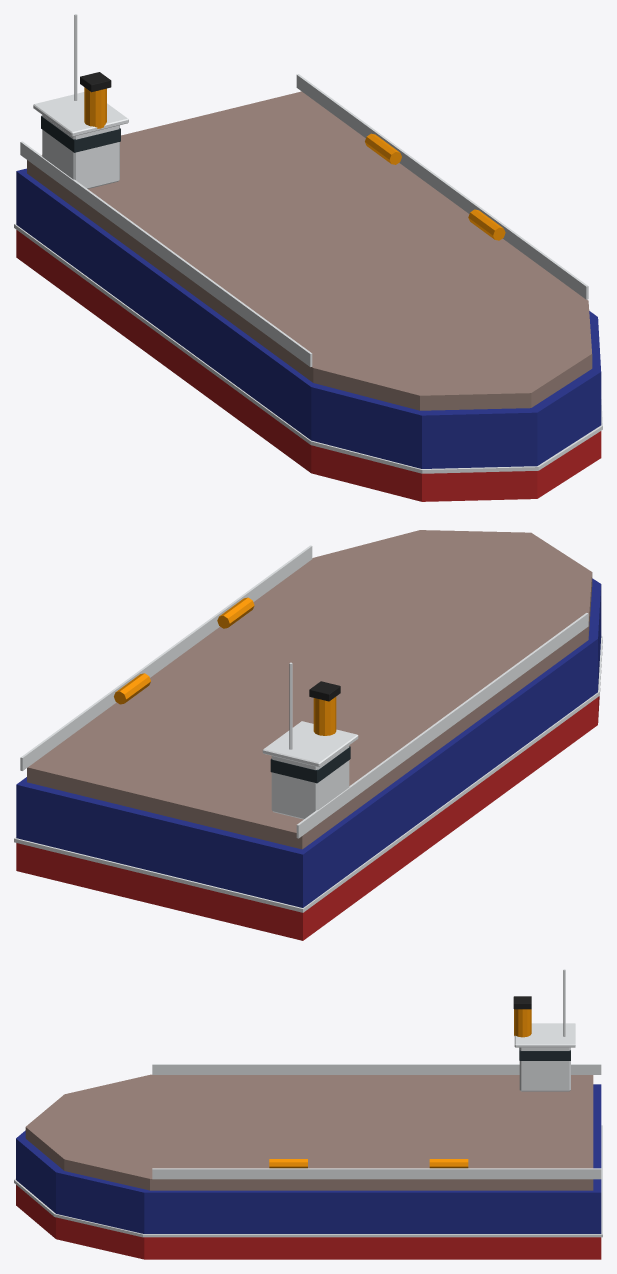
Rendered from ship.glb.
3 views of the same model, one above another, from view 1: azimuth 30°, elevation 25°; view 2: azimuth 150°, elevation 25°; view 3: azimuth 270°, elevation 25° (orthographic). The views are drawn at different scales.
Parts seen in each view (by area): view 1: ship; view 2: ship; view 3: ship.
Boxes of the visible parts, bbox=[...] form: ship: bbox=[14, 14, 602, 501]; ship: bbox=[14, 530, 602, 940]; ship: bbox=[14, 969, 602, 1259].
Bounding box in the file's own units: 16.13 × 13.4 × 36.72.
